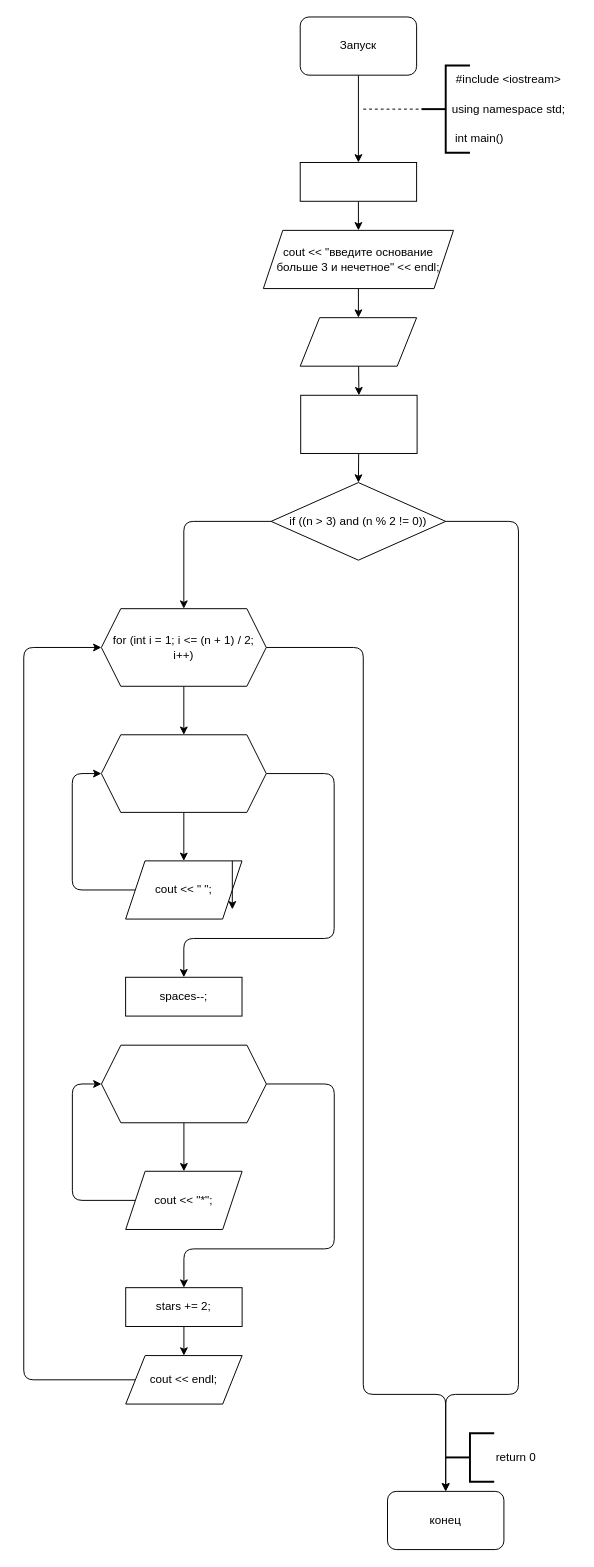
Some shapes in this 594 by 1567 pixel diagram are drawn without their labels. The shapes that lost their labels are listed below. From the top down, each one's centre as x and y in pixels, then its label:
At (358,181): "int n;".
At (358,341): "cin >> n;".
At (358,423): "int spaces = n / 2; int stars=1;".
At (183,773): "for (int j = 1; j <= spaces; j++)".
At (183,1083): "for (int j = 1; j <= stars; j++)".
